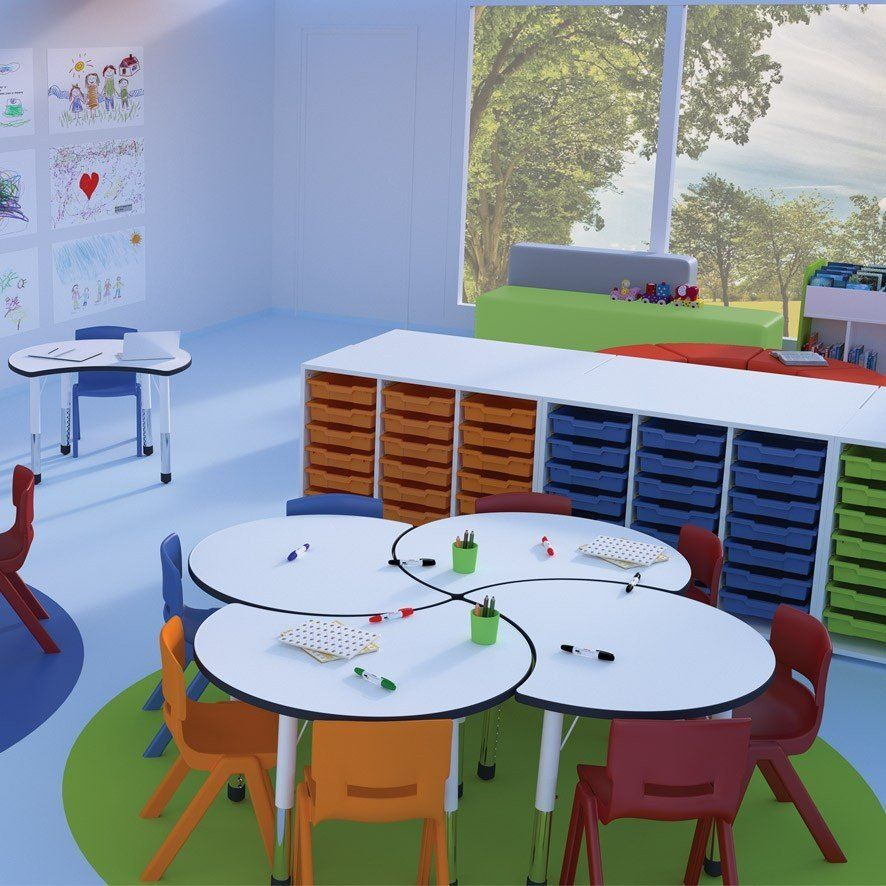m01: (190, 513, 777, 718), (7, 335, 193, 488)
